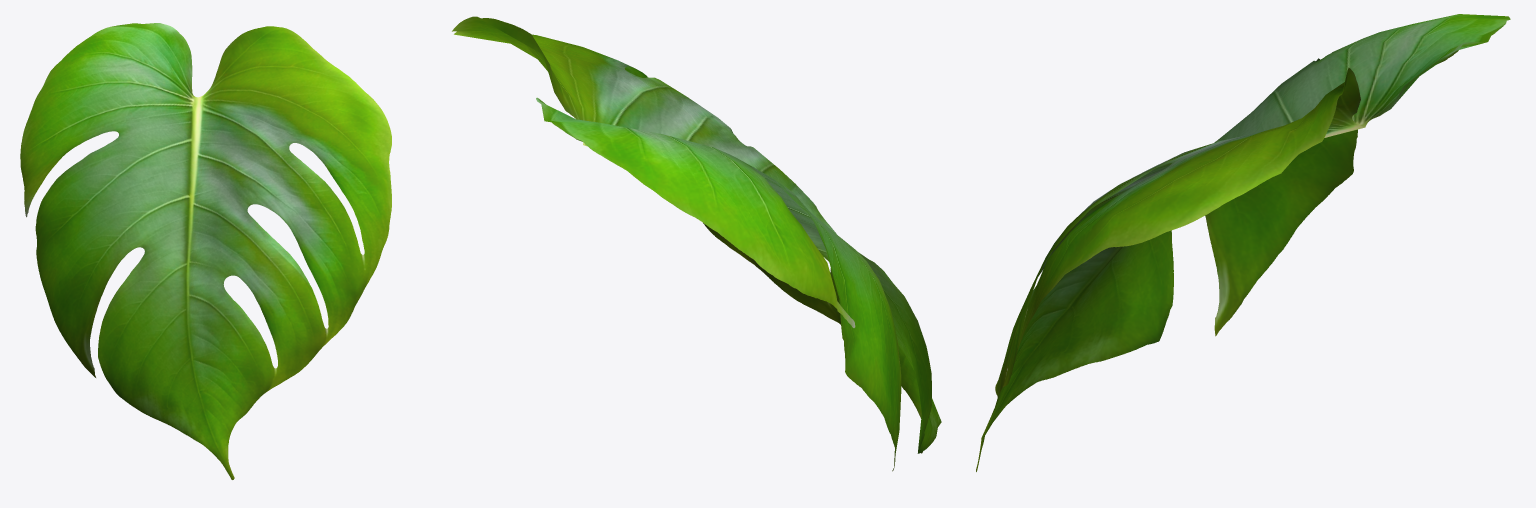
File: monstera_leaf.glb
The picture shows the model from 3 angles, left to right: view 1: azimuth 30°, elevation 25°; view 2: azimuth 150°, elevation 25°; view 3: azimuth 270°, elevation 25°; orthographic projection. The views are drawn at different scales.
Parts seen in each view (by area): view 1: Plane.011; view 2: Plane.011; view 3: Plane.011.
Boxes of the visible parts, <box> form: Plane.011: <box>20,23,391,479</box>; Plane.011: <box>452,16,941,471</box>; Plane.011: <box>976,14,1510,471</box>.
Bounding box in the file's own units: 1.09 × 1.19 × 1.1.
1 material, 1 textured.
